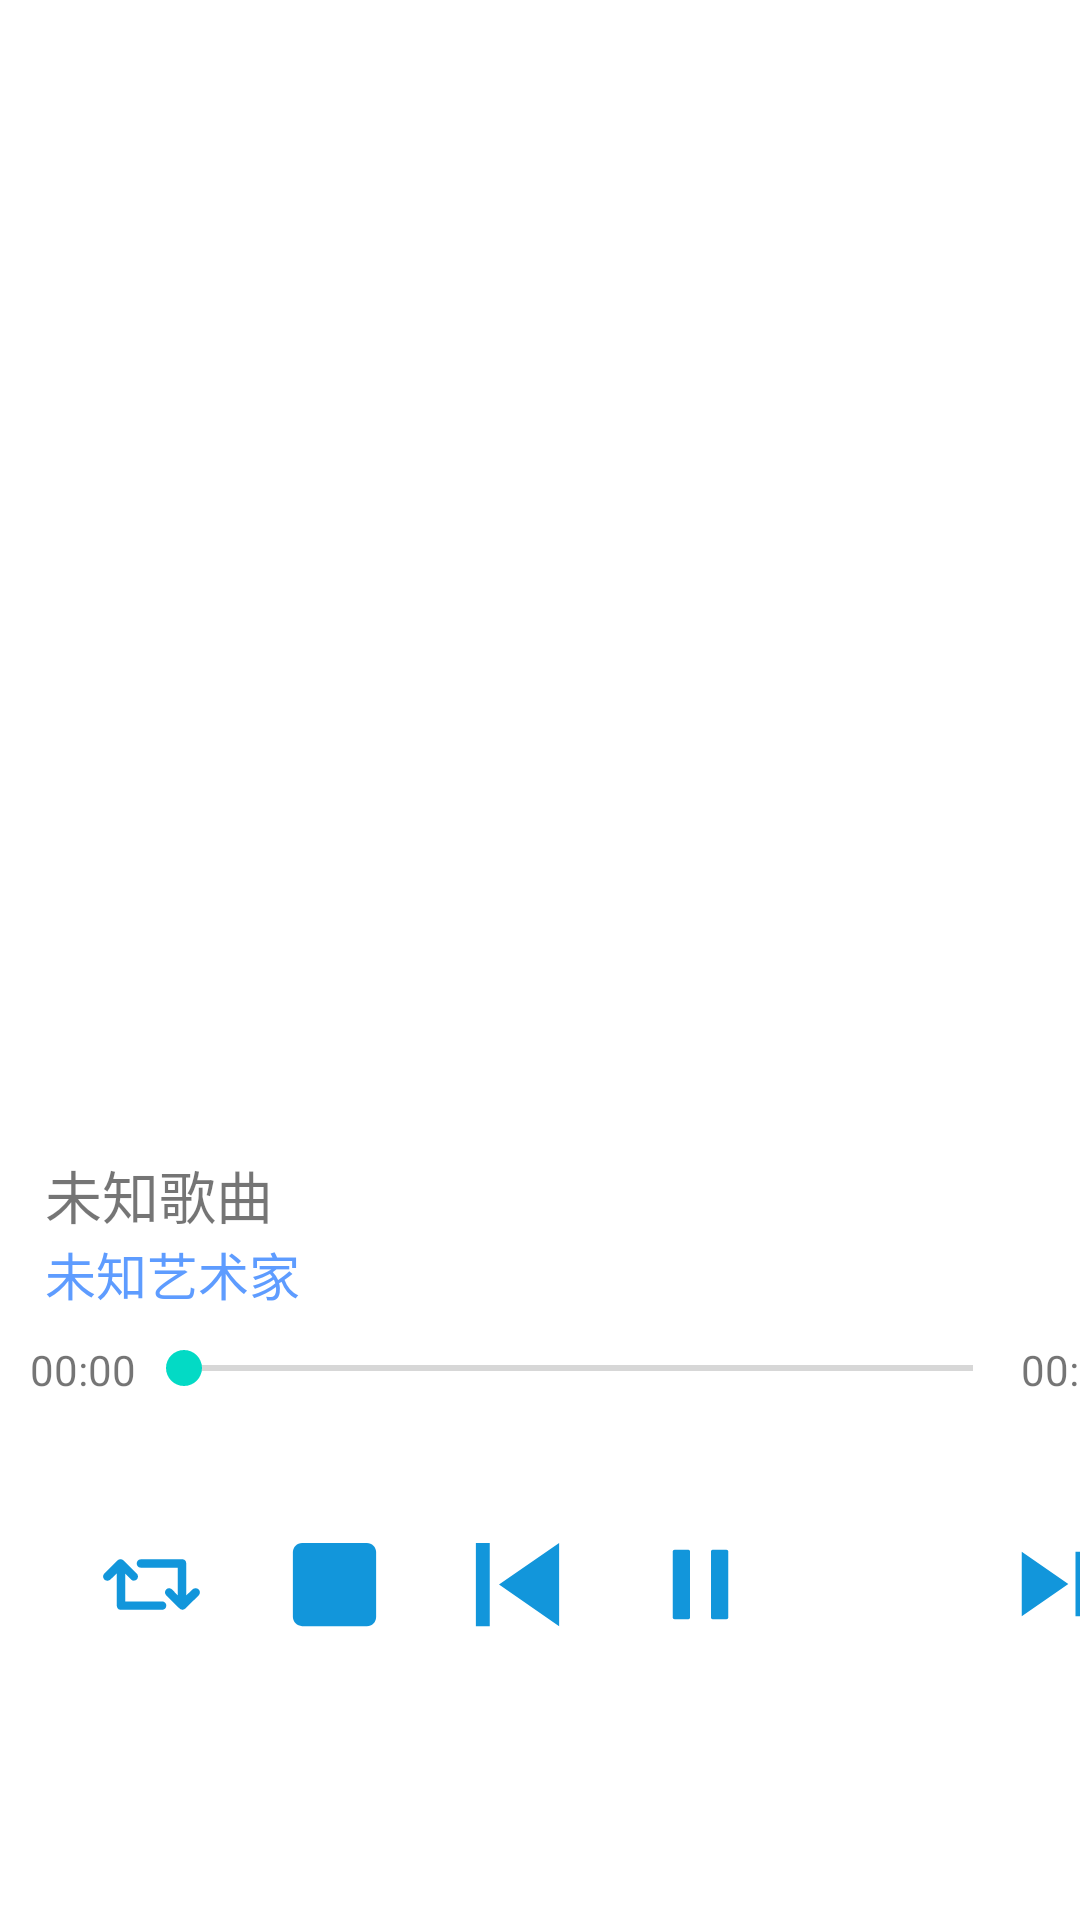

Icons on this 1080px x 1920px Android screen, each with the point to tap as (x,y):
loop list: (151,1584)
previous: (517,1585)
stop: (334,1585)
